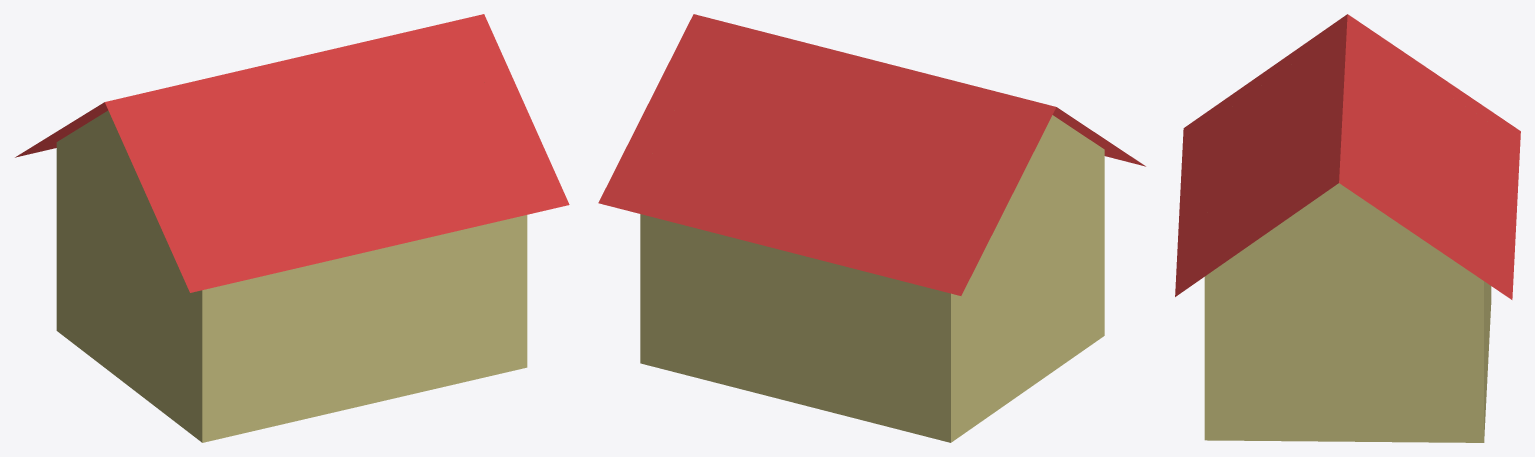
The picture shows the model from 3 angles, left to right: view 1: azimuth 30°, elevation 25°; view 2: azimuth 150°, elevation 25°; view 3: azimuth 270°, elevation 25°; orthographic projection. The views are drawn at different scales.
Bounding box in the file's own units: 14.11 × 11.99 × 10.36.
